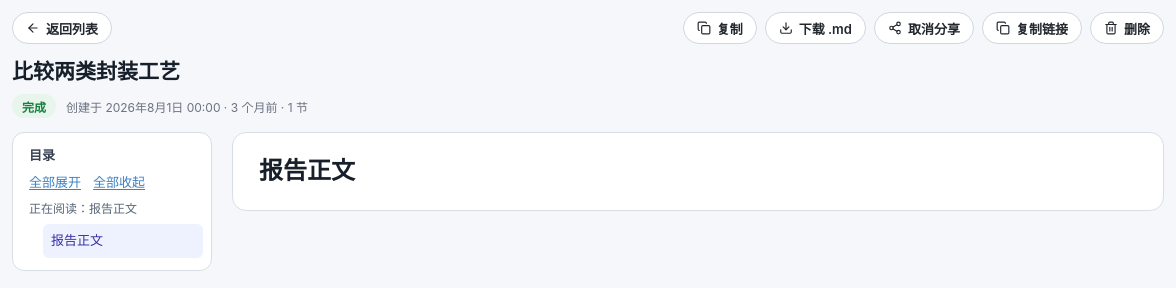
结果只落在按下的那一颗上，同排的另一颗不跟着变
Step 1. Click the button "复制" → point(720, 28), box [683,12,757,44]
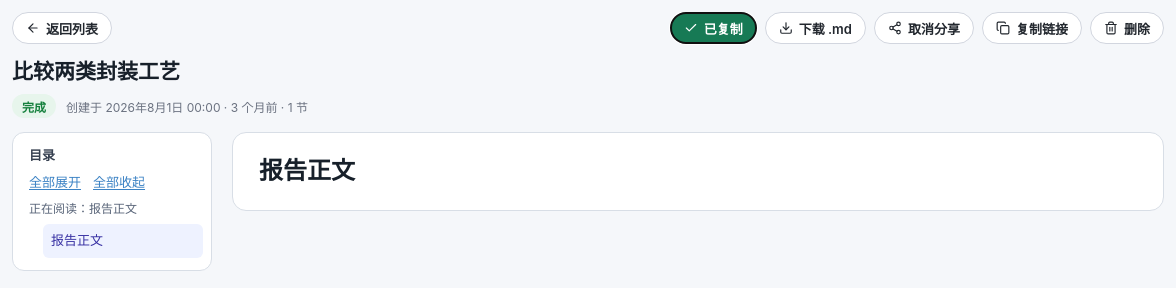
Check: the button "已复制" is shown, box [670,12,757,44]
